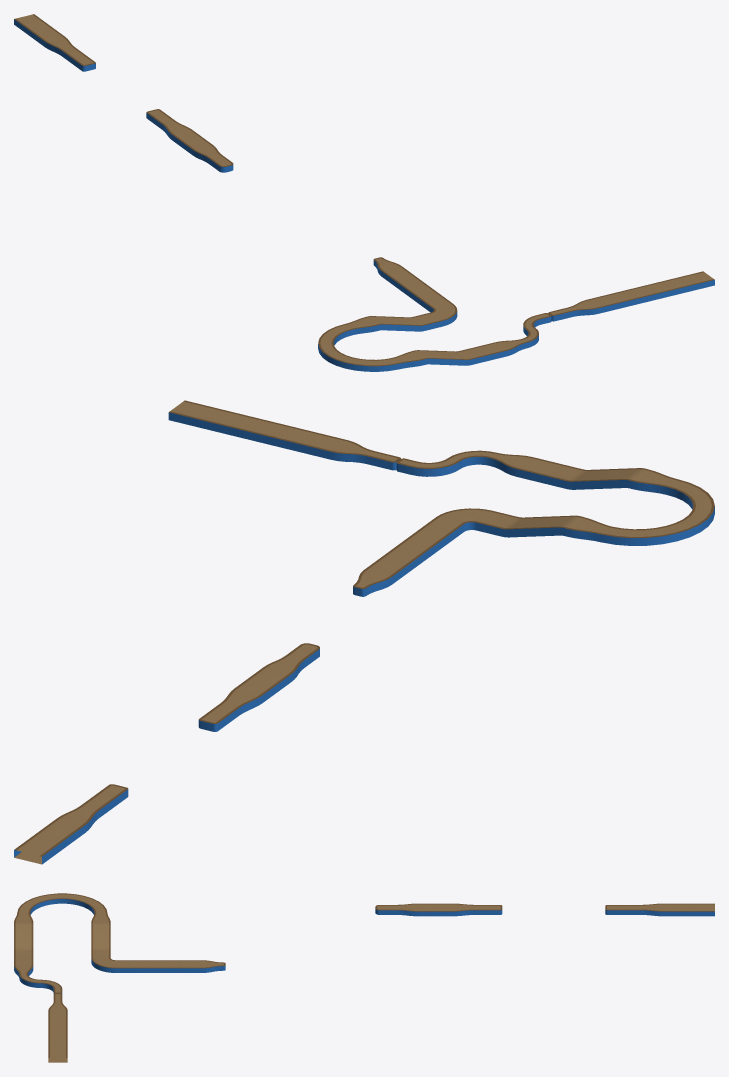
File: ramp_27.FBX
The picture shows the model from 3 angles, top to bottom: view 1: azimuth 30°, elevation 25°; view 2: azimuth 150°, elevation 25°; view 3: azimuth 270°, elevation 25°; orthographic projection. The views are drawn at different scales.
Parts seen in each view (by area): view 1: ramp_27; view 2: ramp_27; view 3: ramp_27.
Part boxes in pixels (x1,y1,x2,y2): ramp_27: [14, 14, 714, 371]; ramp_27: [14, 400, 714, 864]; ramp_27: [14, 893, 714, 1062].
Bounding box in the file's own units: 8494 × 970 × 16311.
